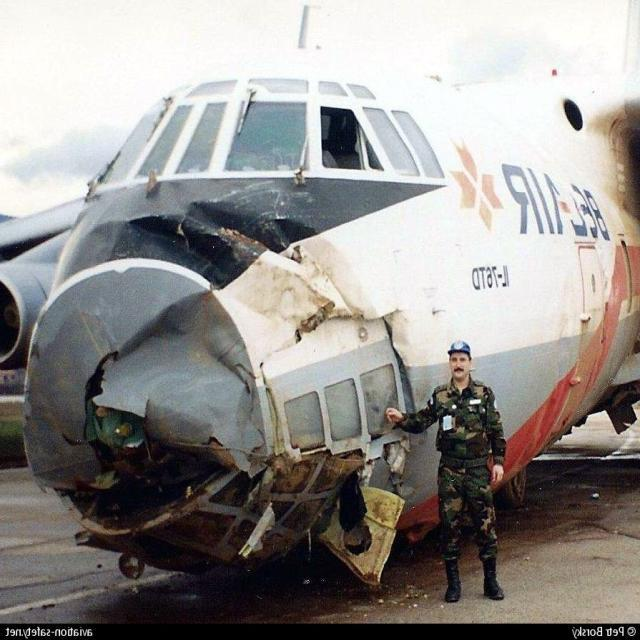dent: (131, 200, 234, 274)
